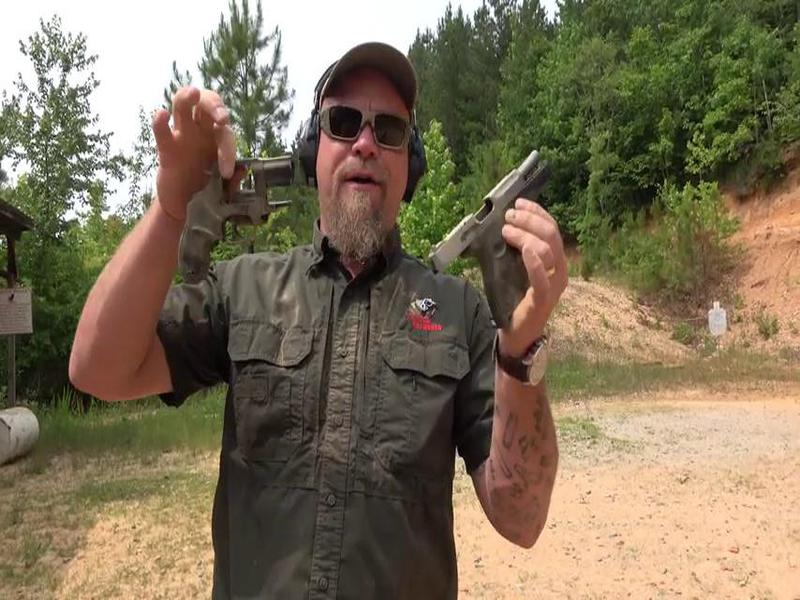Pistola: (415, 147, 598, 348)
